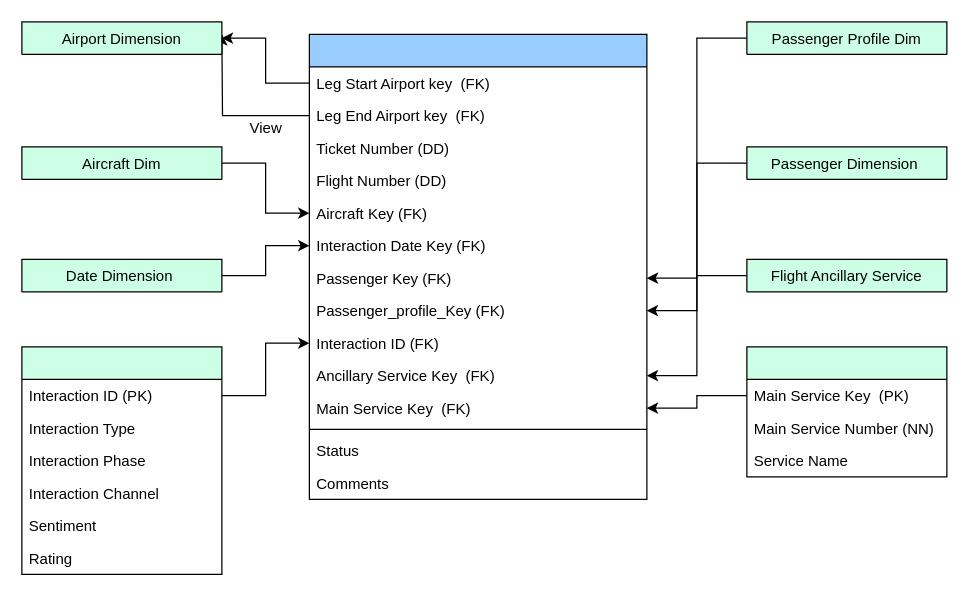
Image size: 969x600. Some labels were removed from this diagram. Here are the shapes that lost their labels. From the top down, the box of each, then its label:
(308, 33, 647, 499): Customer Care Fact
(746, 346, 947, 477): Main_Service_Dimension
(21, 346, 222, 574): Interaction Dim
